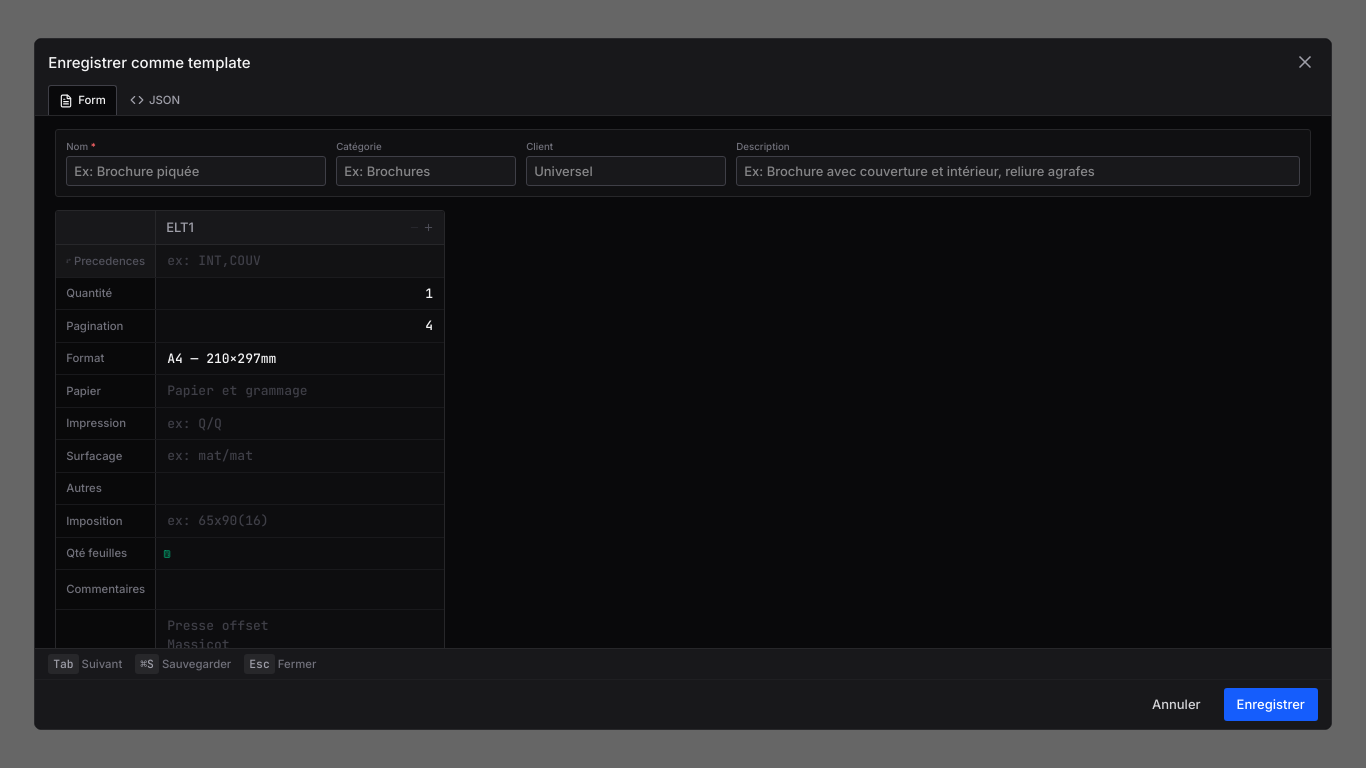
JcfTemplateEditorModal › validation › clears error on valid save
Note: First, try to save without name to trigger error
Click the button with test id "template-editor-save". click: click(1271, 704)
box: x1=1224 y1=688 x2=1318 y2=721
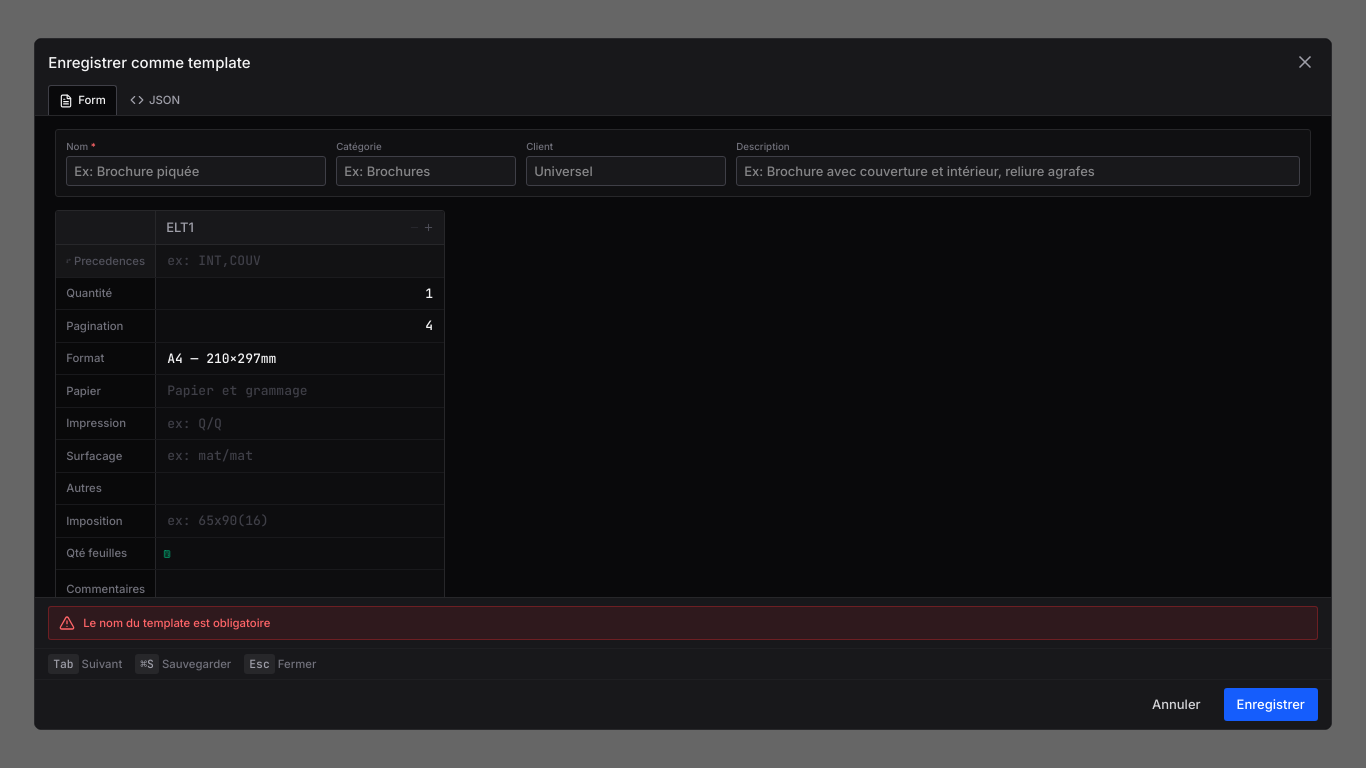
Expected: the text "Le nom du template est obligatoire" is shown, x1=83 y1=615 x2=270 y2=631
Note: Now add name and save again
Type "Valid Name" into the field with test id "template-field-name". click: (196, 171)
box: x1=66 y1=156 x2=326 y2=186
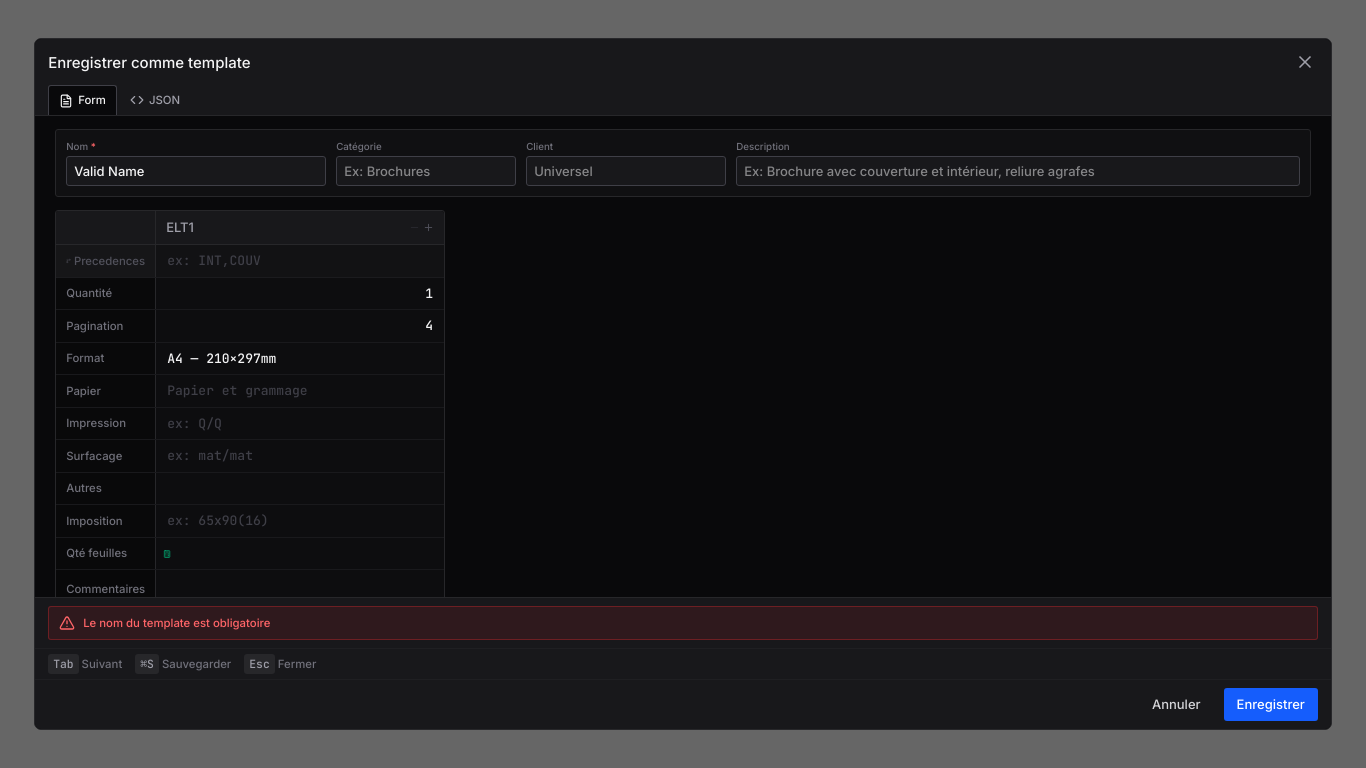
Click the button with test id "template-editor-save". click: click(1271, 704)
box: x1=1224 y1=688 x2=1318 y2=721
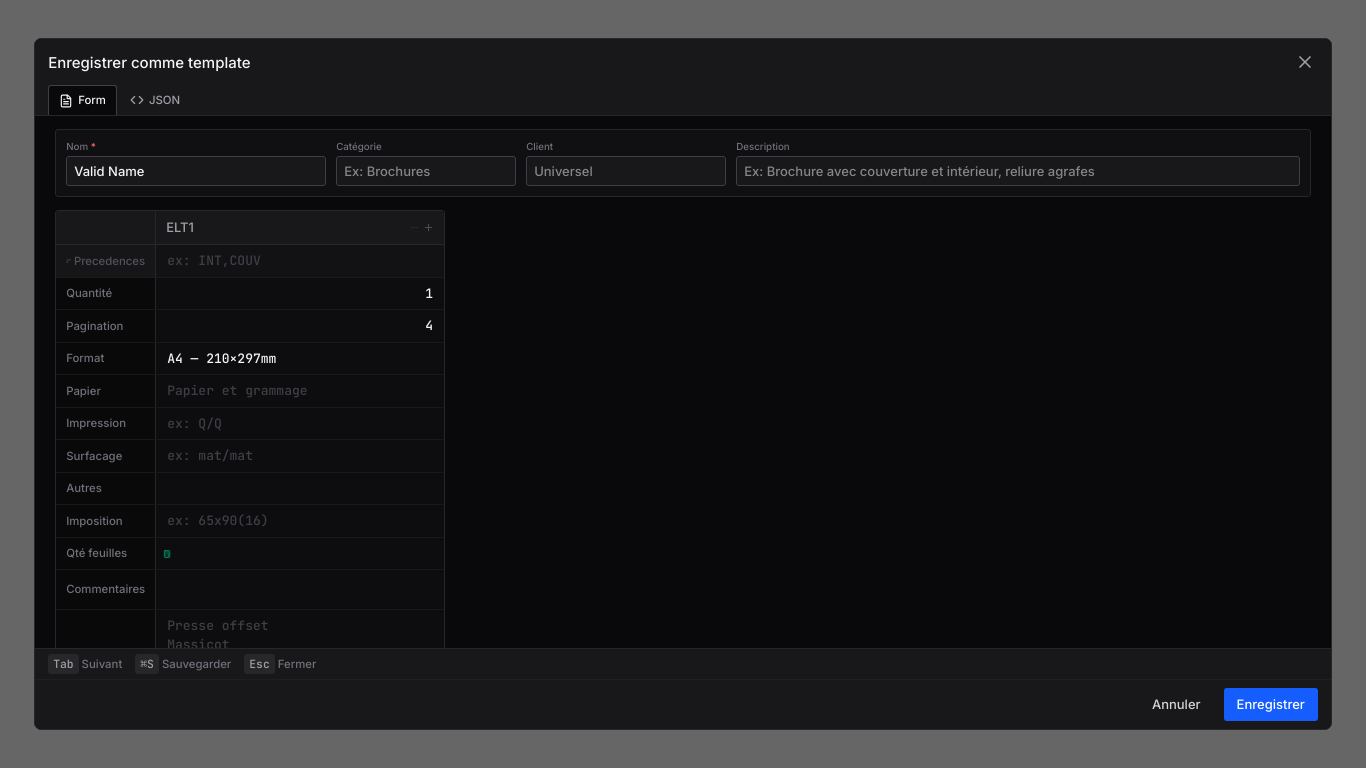
Expected: the text "Le nom du template est obligatoire" is gone
